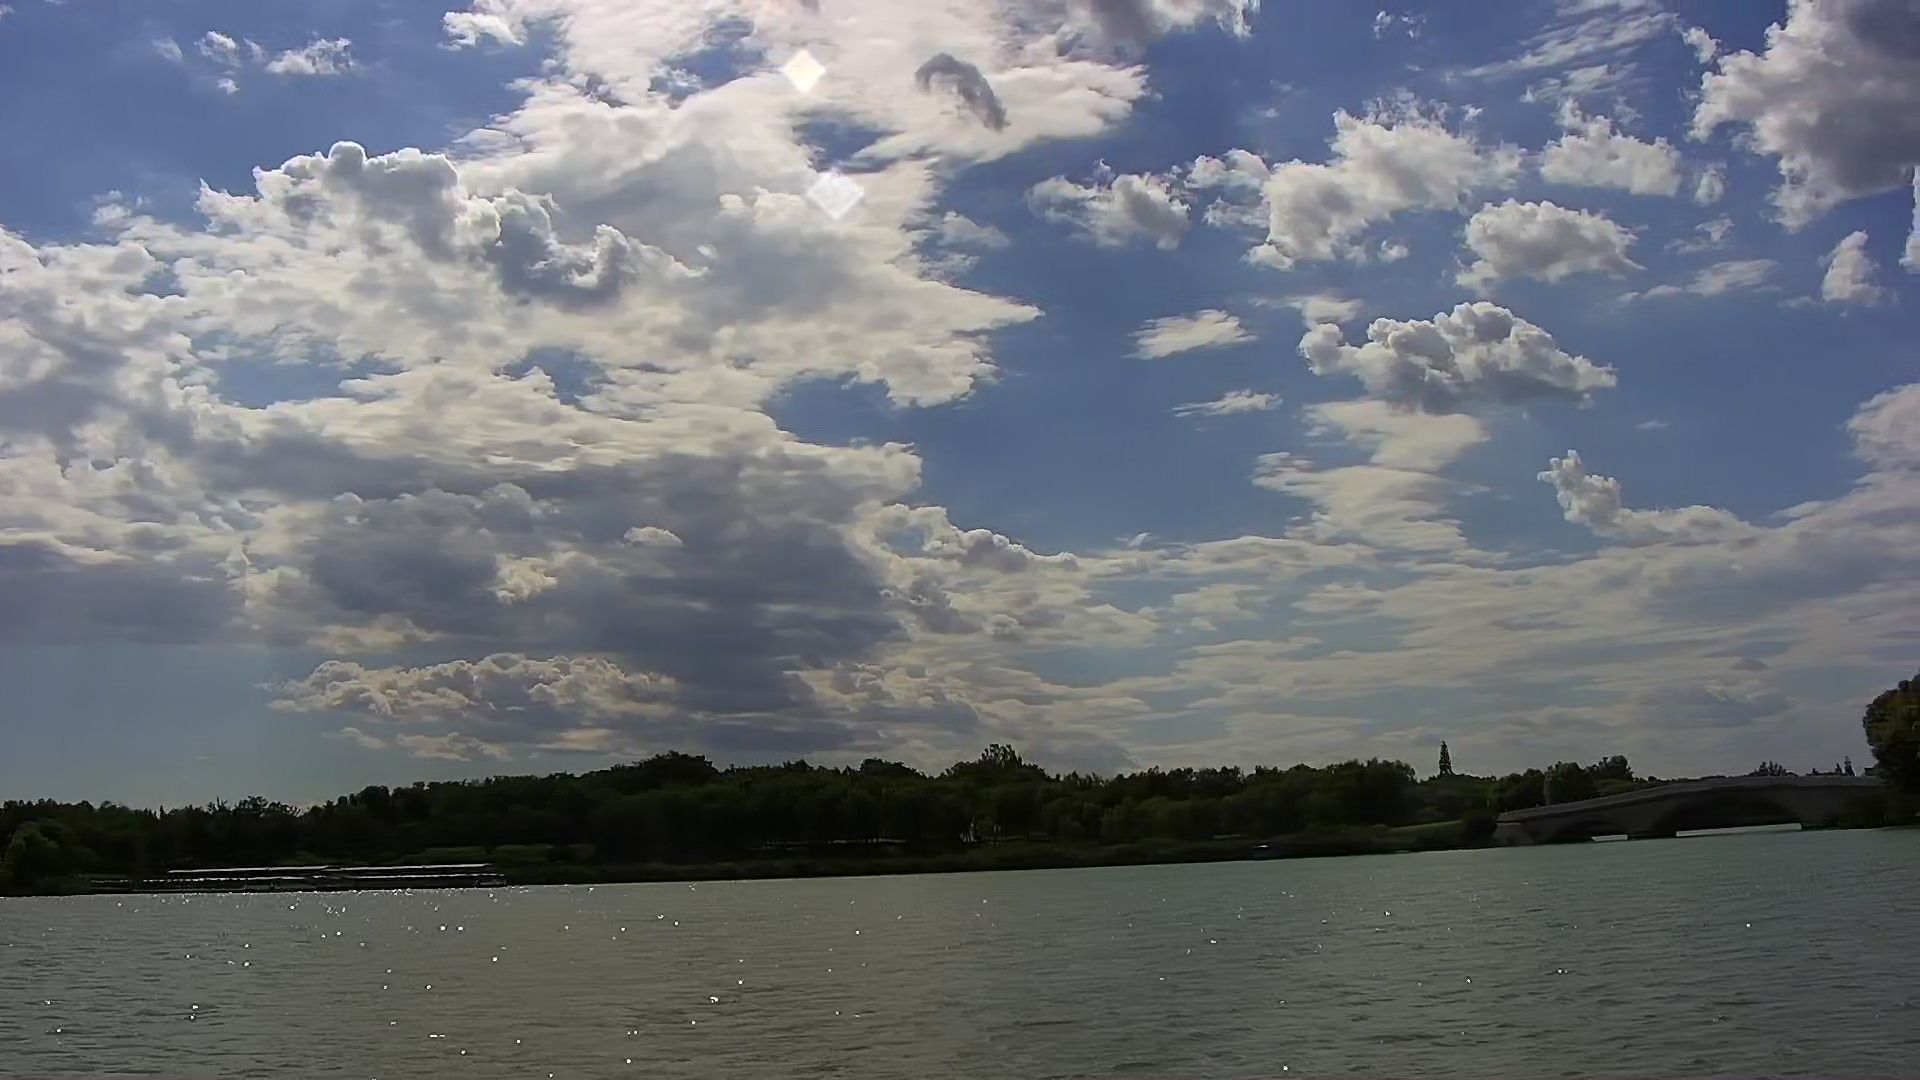bridge: (1486, 770, 1920, 843)
harbor: (164, 858, 498, 895)
